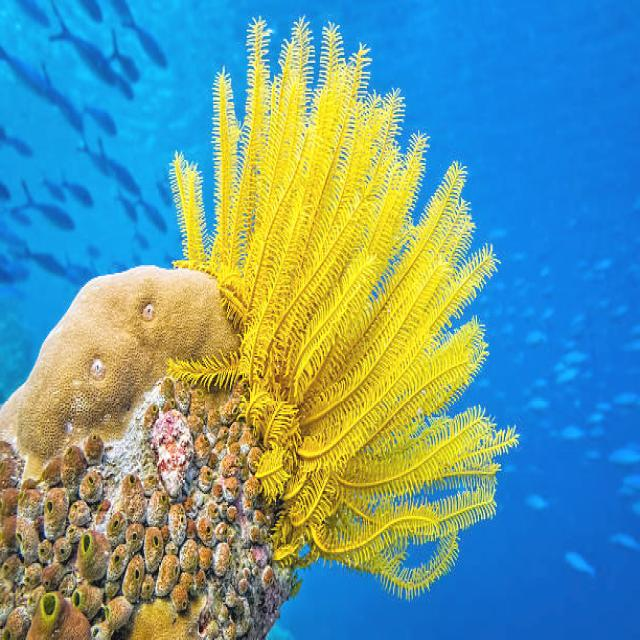Coral: (0, 265, 241, 482)
